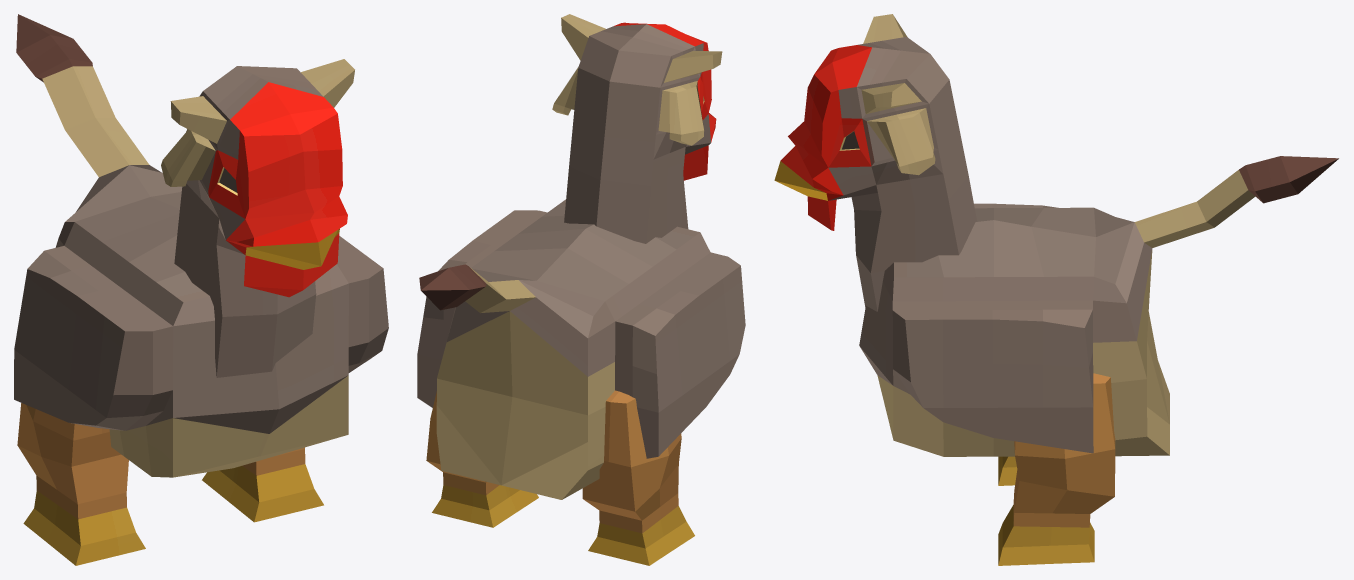
The model's file is Mother_Bullchick.fbx.
3 views of the same model, side by side, from view 1: azimuth 30°, elevation 25°; view 2: azimuth 150°, elevation 25°; view 3: azimuth 270°, elevation 25° (orthographic). The views are drawn at different scales.
Visible parts, largest first — view 1: Mother_Hen_Body, Mother_Hen_Head, Mother_Hen_LegsR, Mother_Hen_LegsL; view 2: Mother_Hen_Body, Mother_Hen_Head, Mother_Hen_LegsR, Mother_Hen_LegsL; view 3: Mother_Hen_Body, Mother_Hen_Head, Mother_Hen_LegsL.
Part boxes in pixels (bbox=[...]): Mother_Hen_Body: bbox=[14, 14, 388, 477]; Mother_Hen_Head: bbox=[161, 59, 354, 377]; Mother_Hen_LegsR: bbox=[17, 403, 145, 565]; Mother_Hen_LegsL: bbox=[202, 447, 323, 522]; Mother_Hen_Body: bbox=[417, 199, 745, 499]; Mother_Hen_Head: bbox=[552, 14, 722, 243]; Mother_Hen_LegsR: bbox=[582, 390, 694, 565]; Mother_Hen_LegsL: bbox=[426, 391, 538, 527]; Mother_Hen_Body: bbox=[859, 156, 1338, 456]; Mother_Hen_Head: bbox=[774, 14, 976, 311]; Mother_Hen_LegsL: bbox=[998, 373, 1115, 565].
Bounding box in the file's own units: 314 × 548 × 606.
